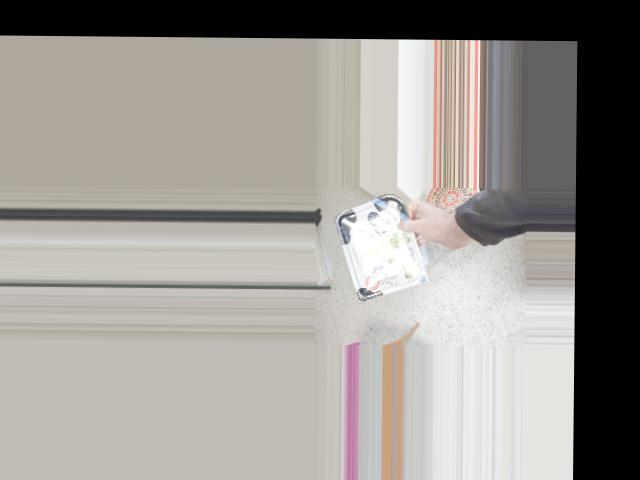cheese: (344, 199, 411, 289)
